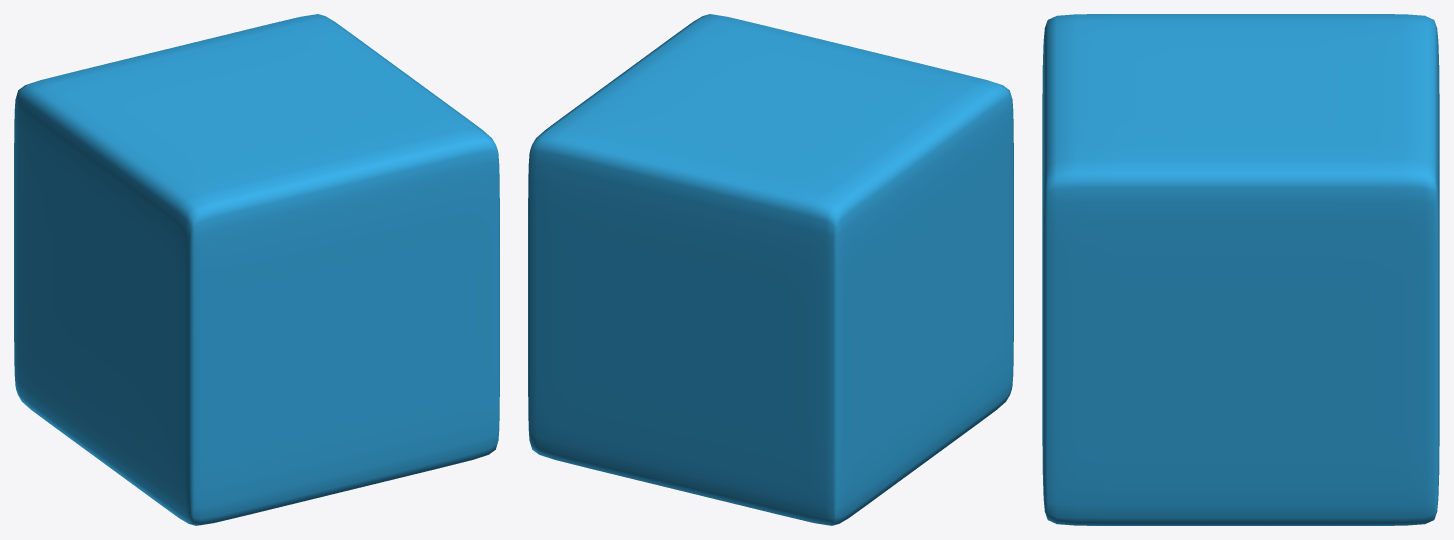
File: room_block.glb
The picture shows the model from 3 angles, left to right: view 1: azimuth 30°, elevation 25°; view 2: azimuth 150°, elevation 25°; view 3: azimuth 270°, elevation 25°; orthographic projection. The views are drawn at different scales.
Visible parts, largest first — view 1: room_brick; view 2: room_brick; view 3: room_brick.
Part boxes in pixels (x1,y1,x2,y2): room_brick: (14,14,499,525); room_brick: (528,14,1013,525); room_brick: (1042,14,1439,525).
Bounding box in the file's own units: 2 × 2 × 2.
